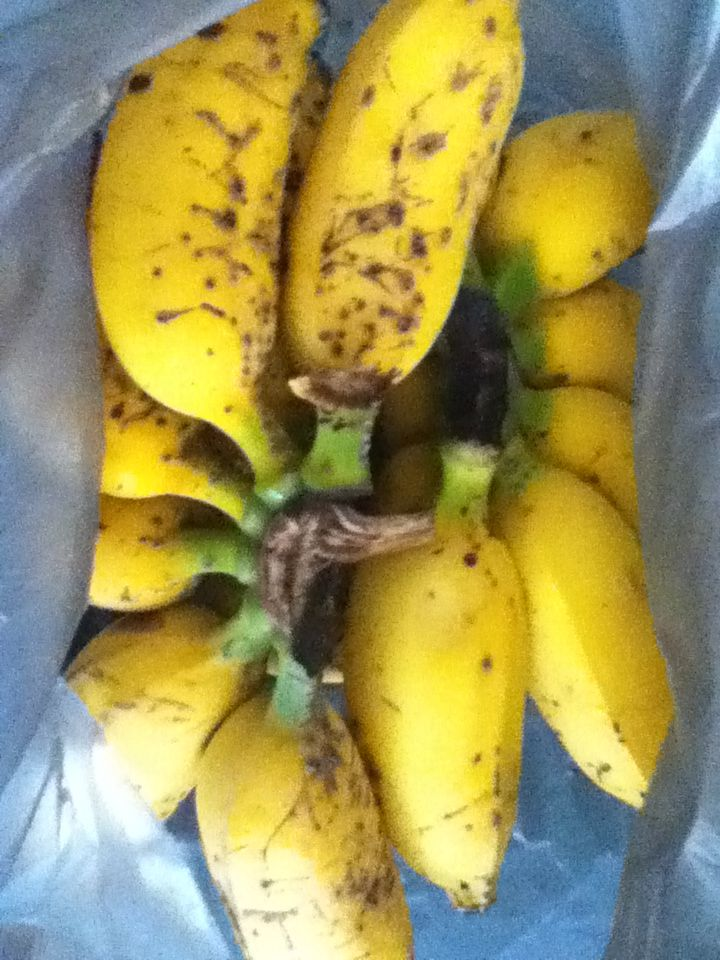looks_good: (62, 38, 668, 960)
